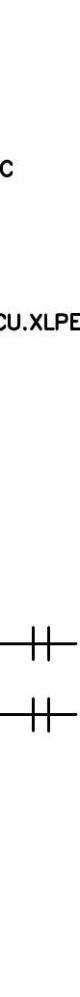115_buffer: (32, 697, 51, 733), (32, 626, 50, 662)
